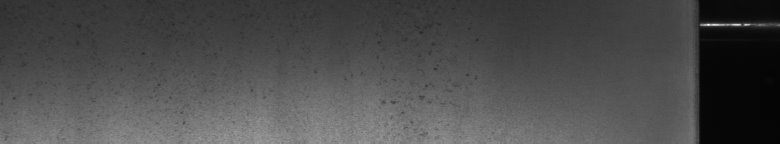ib: (379, 28, 478, 135)
